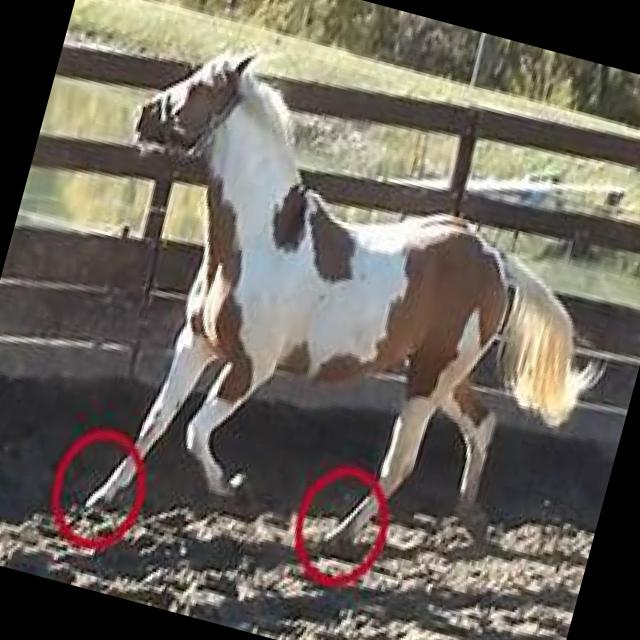animal: (35, 22, 640, 629)
